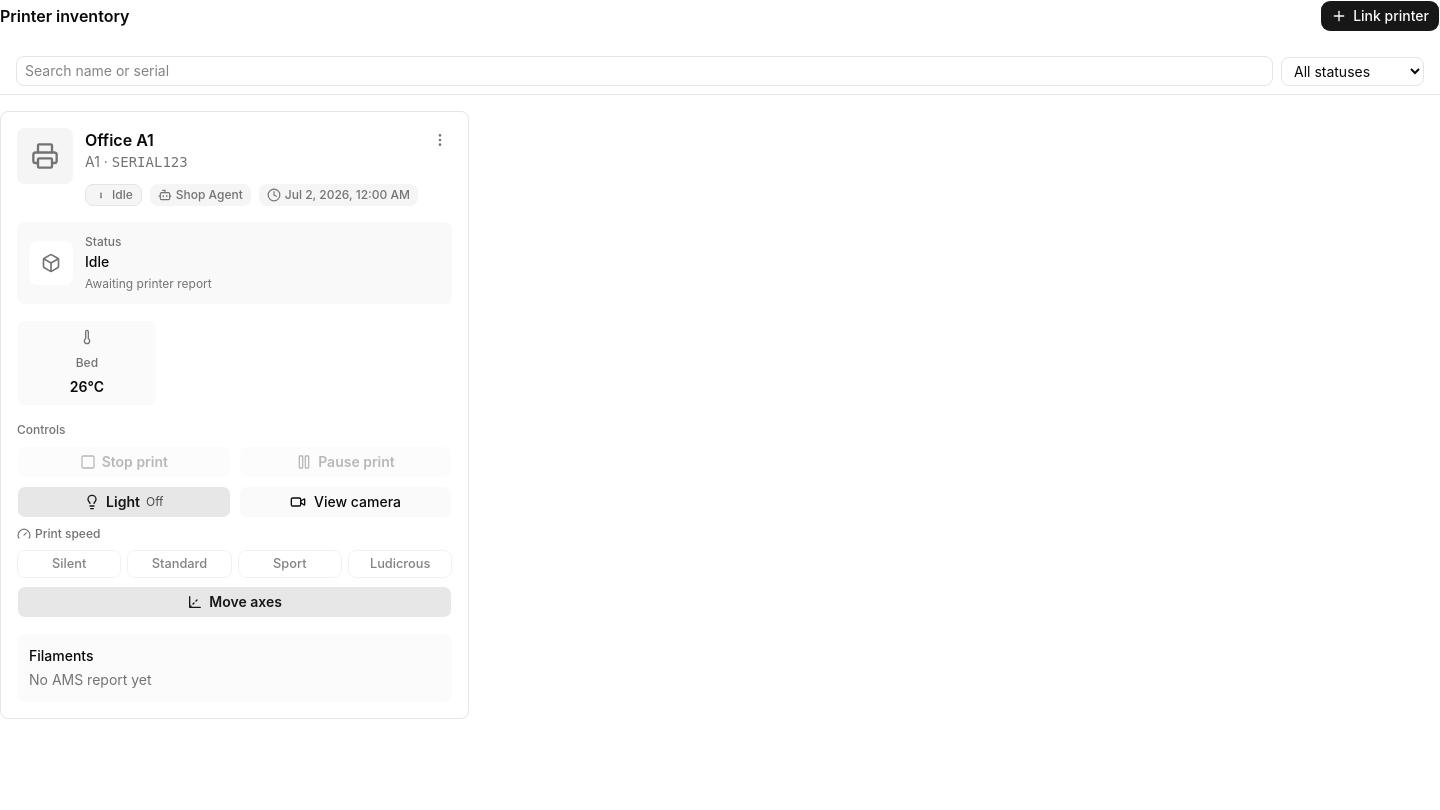
Scenario: PrinterInventory › hides zero bed target temperature from the card and menu
The image size is (1440, 810).
Expected: the element "Office A1" does not show "26° / 0°", x1=0 y1=111 x2=469 y2=719
Step 1. Click the button with aria-label "Set bed temperature" → (87, 363), box x1=17 y1=320 x2=157 y2=406
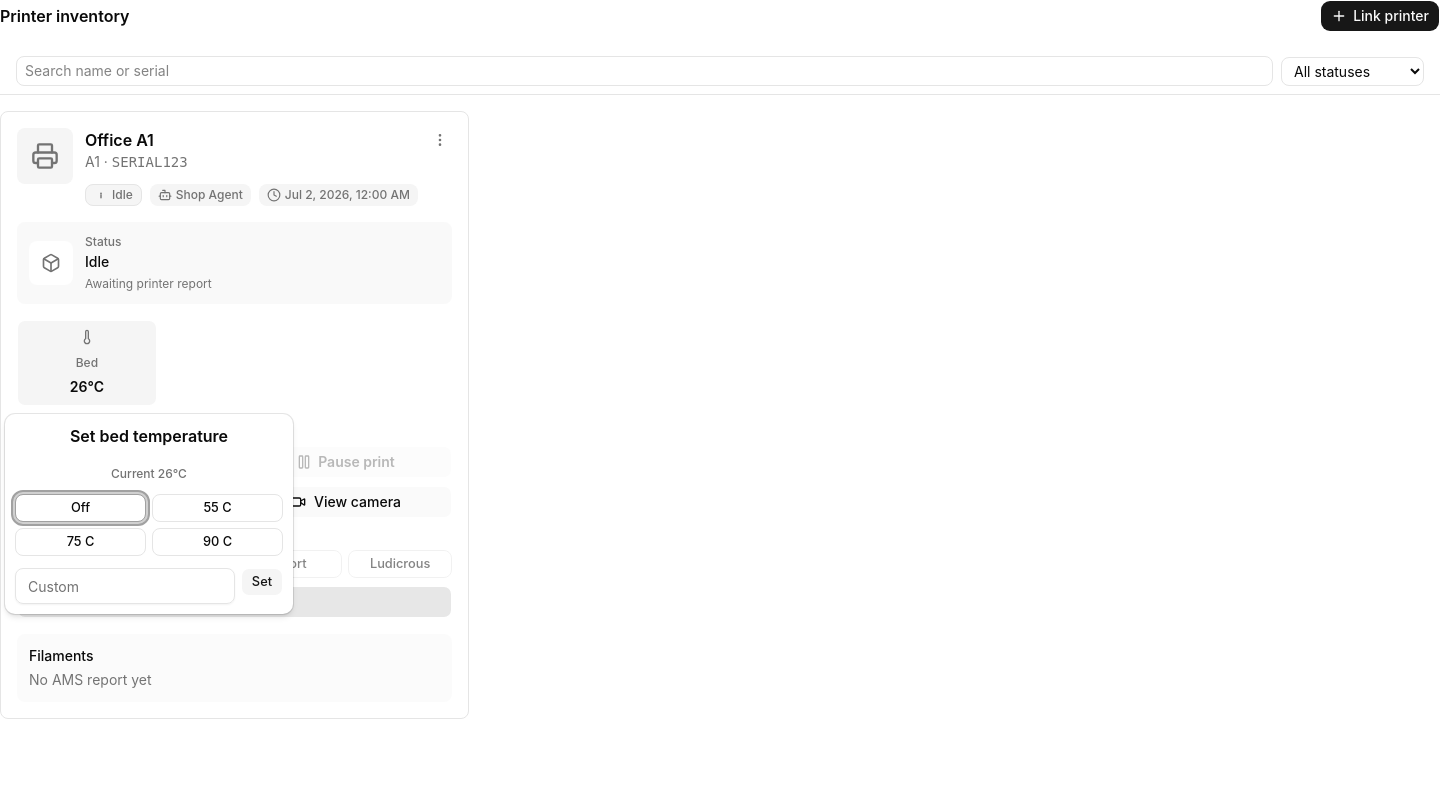
Expected: the text "Current 26°C" is shown, x1=111 y1=466 x2=187 y2=482
